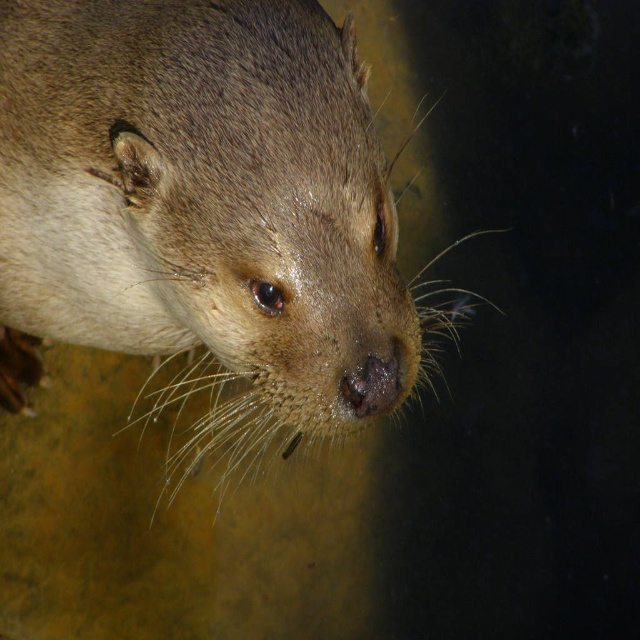Otter: (0, 0, 512, 487)
